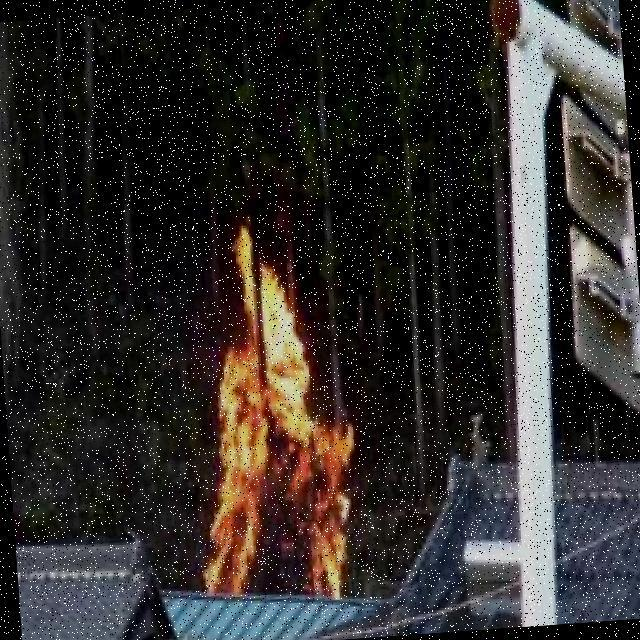Fire: (184, 226, 361, 608)
